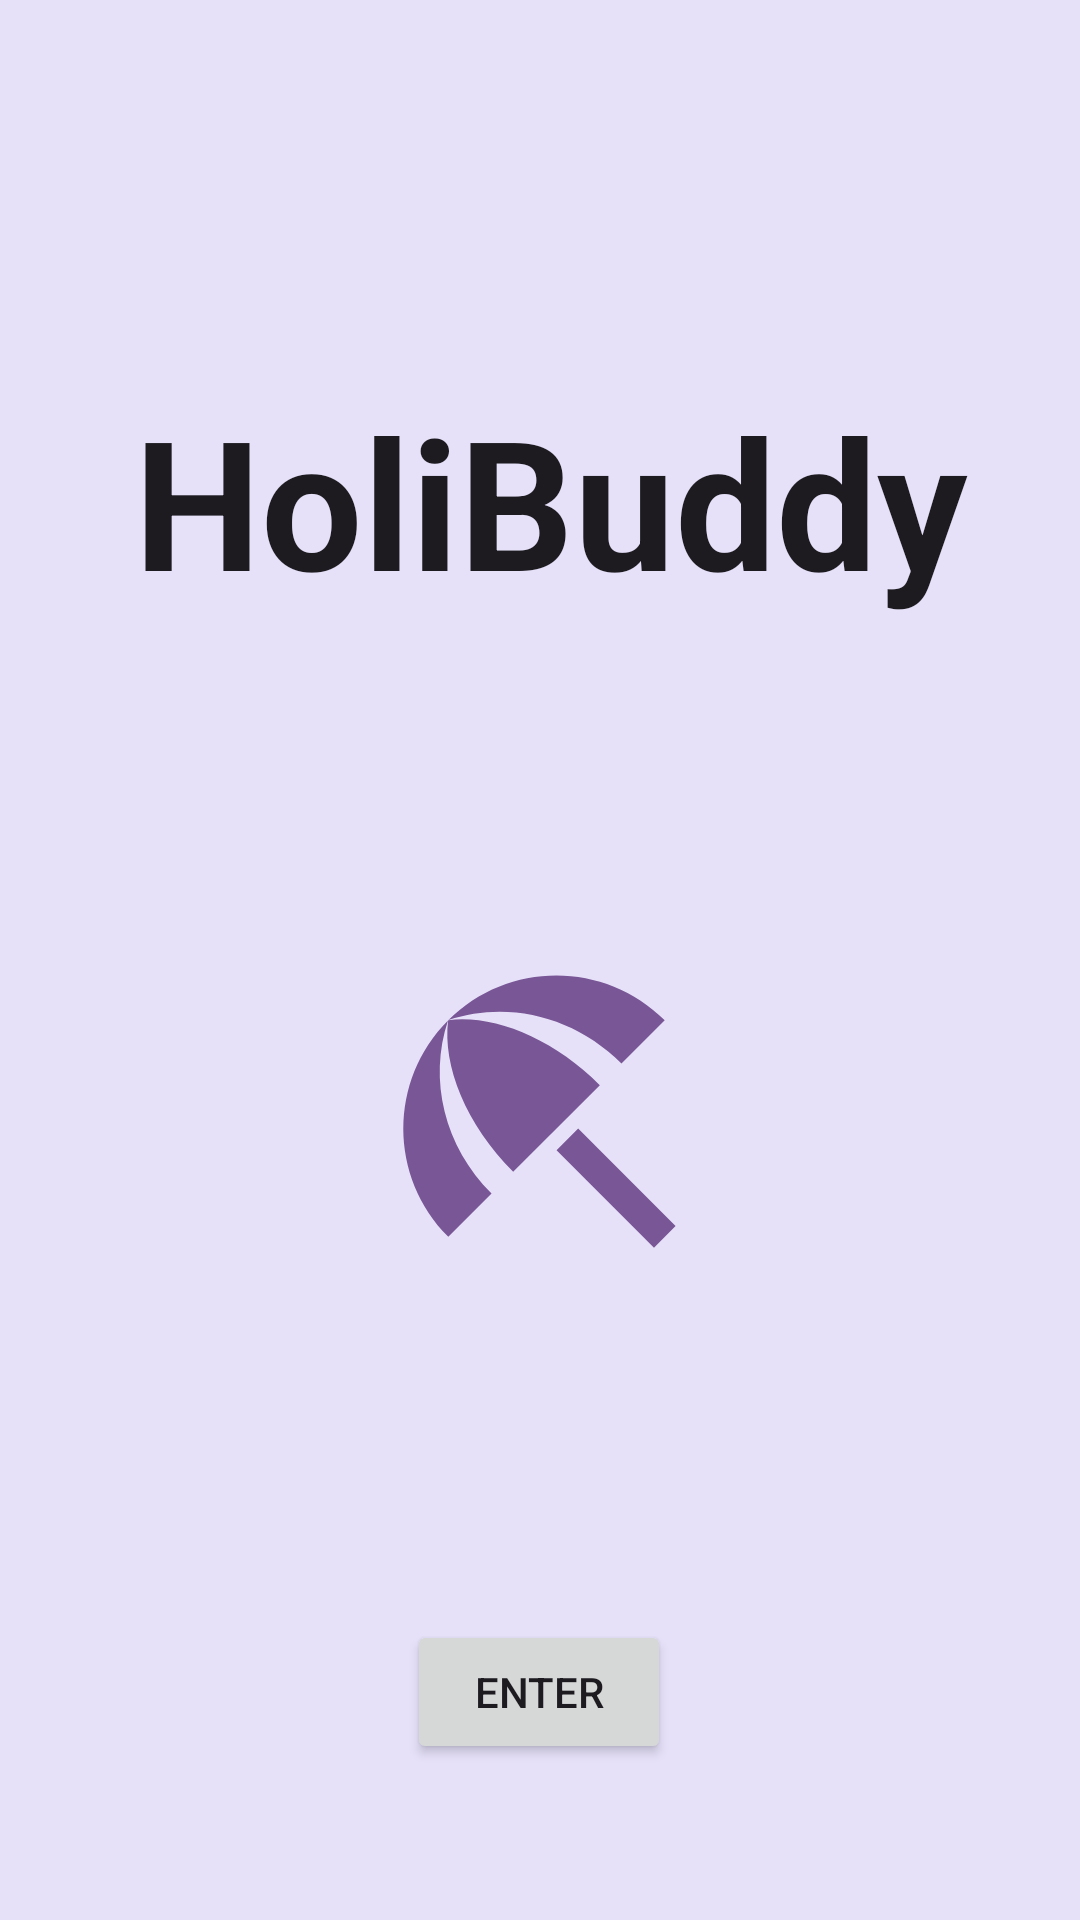

Point at icon controls on the screen. Image size 1080px x 1920px, points as (x=x, y=y).
beach access: (x=539, y=1111)
